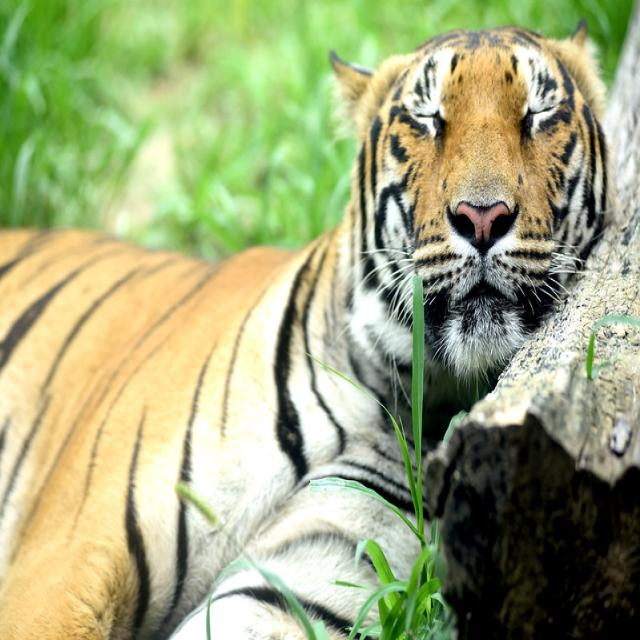Tiger: (1, 19, 617, 639)
